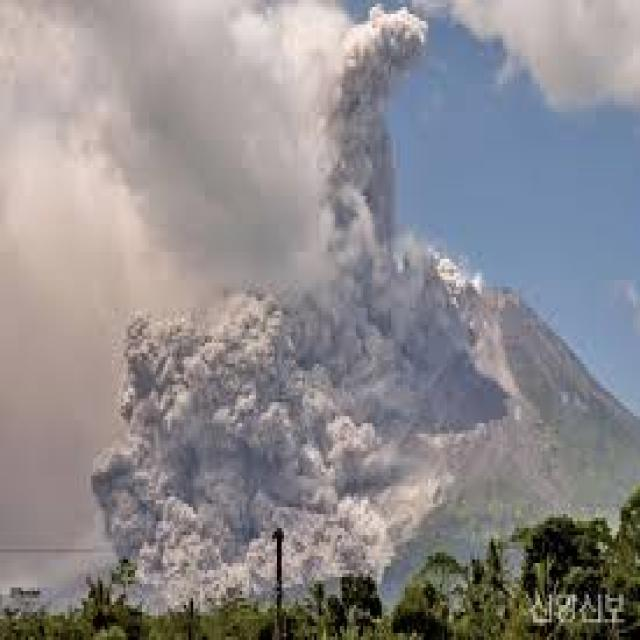explosion: (77, 0, 548, 581)
